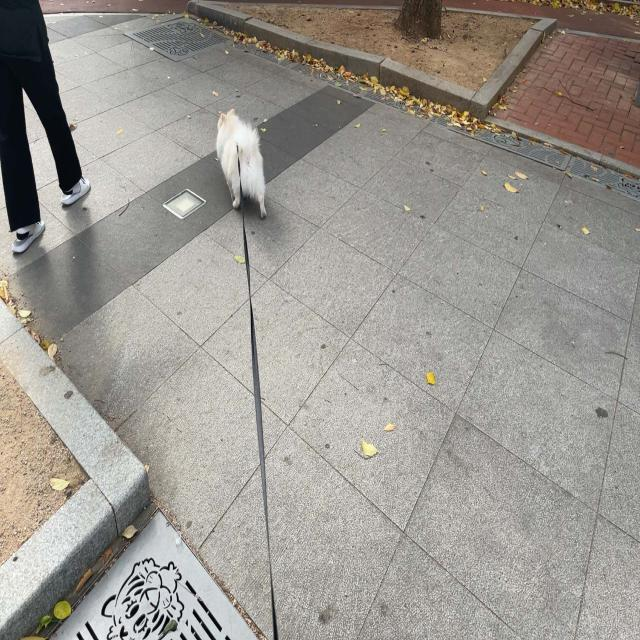Dog: (217, 109, 267, 219)
